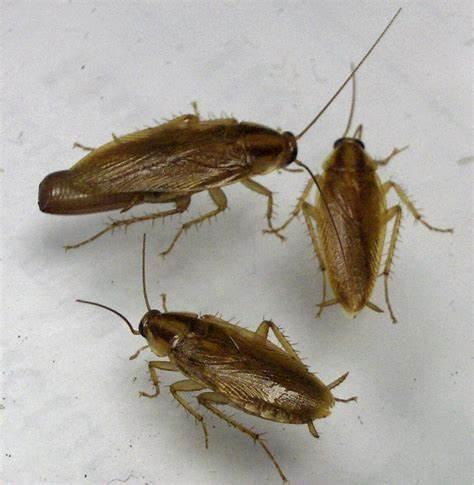cockroach: (130, 291, 340, 453), (66, 107, 304, 215), (301, 132, 406, 322)
